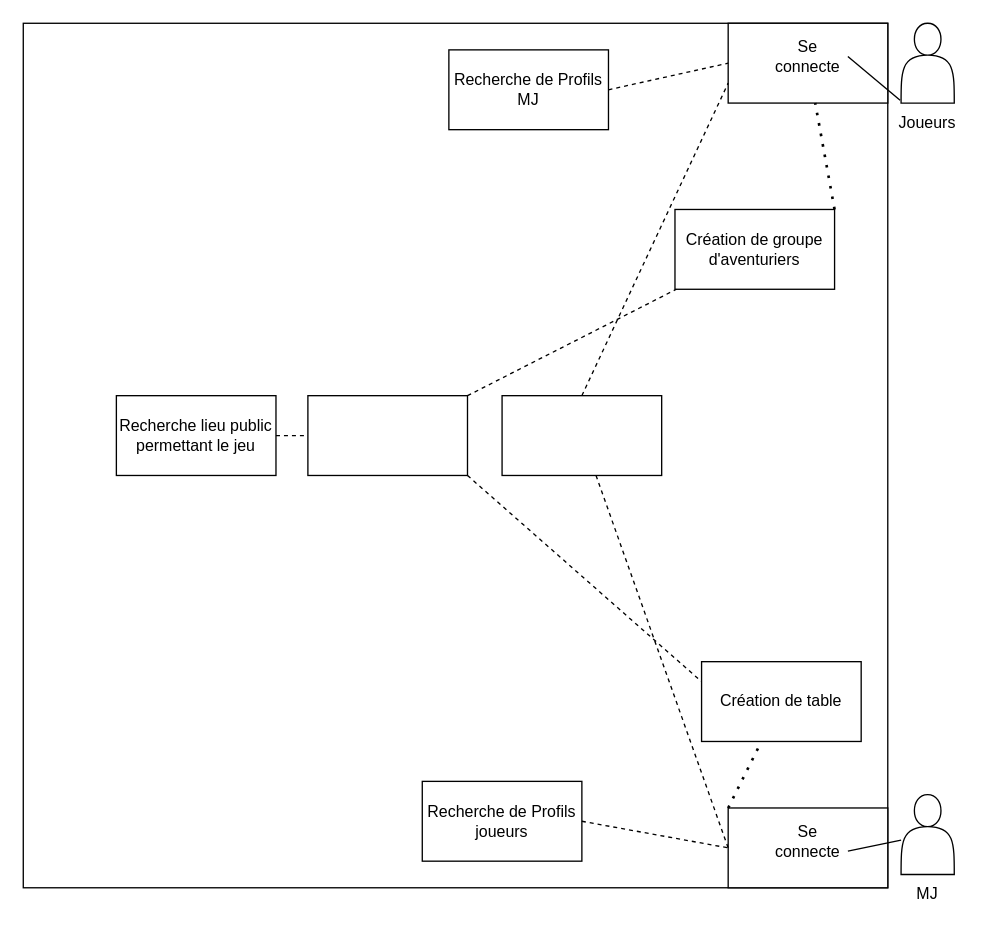
Image size: 991x938. Some labels were removed from this diagram. Here are the shapes that lost their labels. From the top down, the centre of each, then its label:
At point 387,434: "Organisation Date-lieu".
At point 581,434: "Messagerie/chat".
